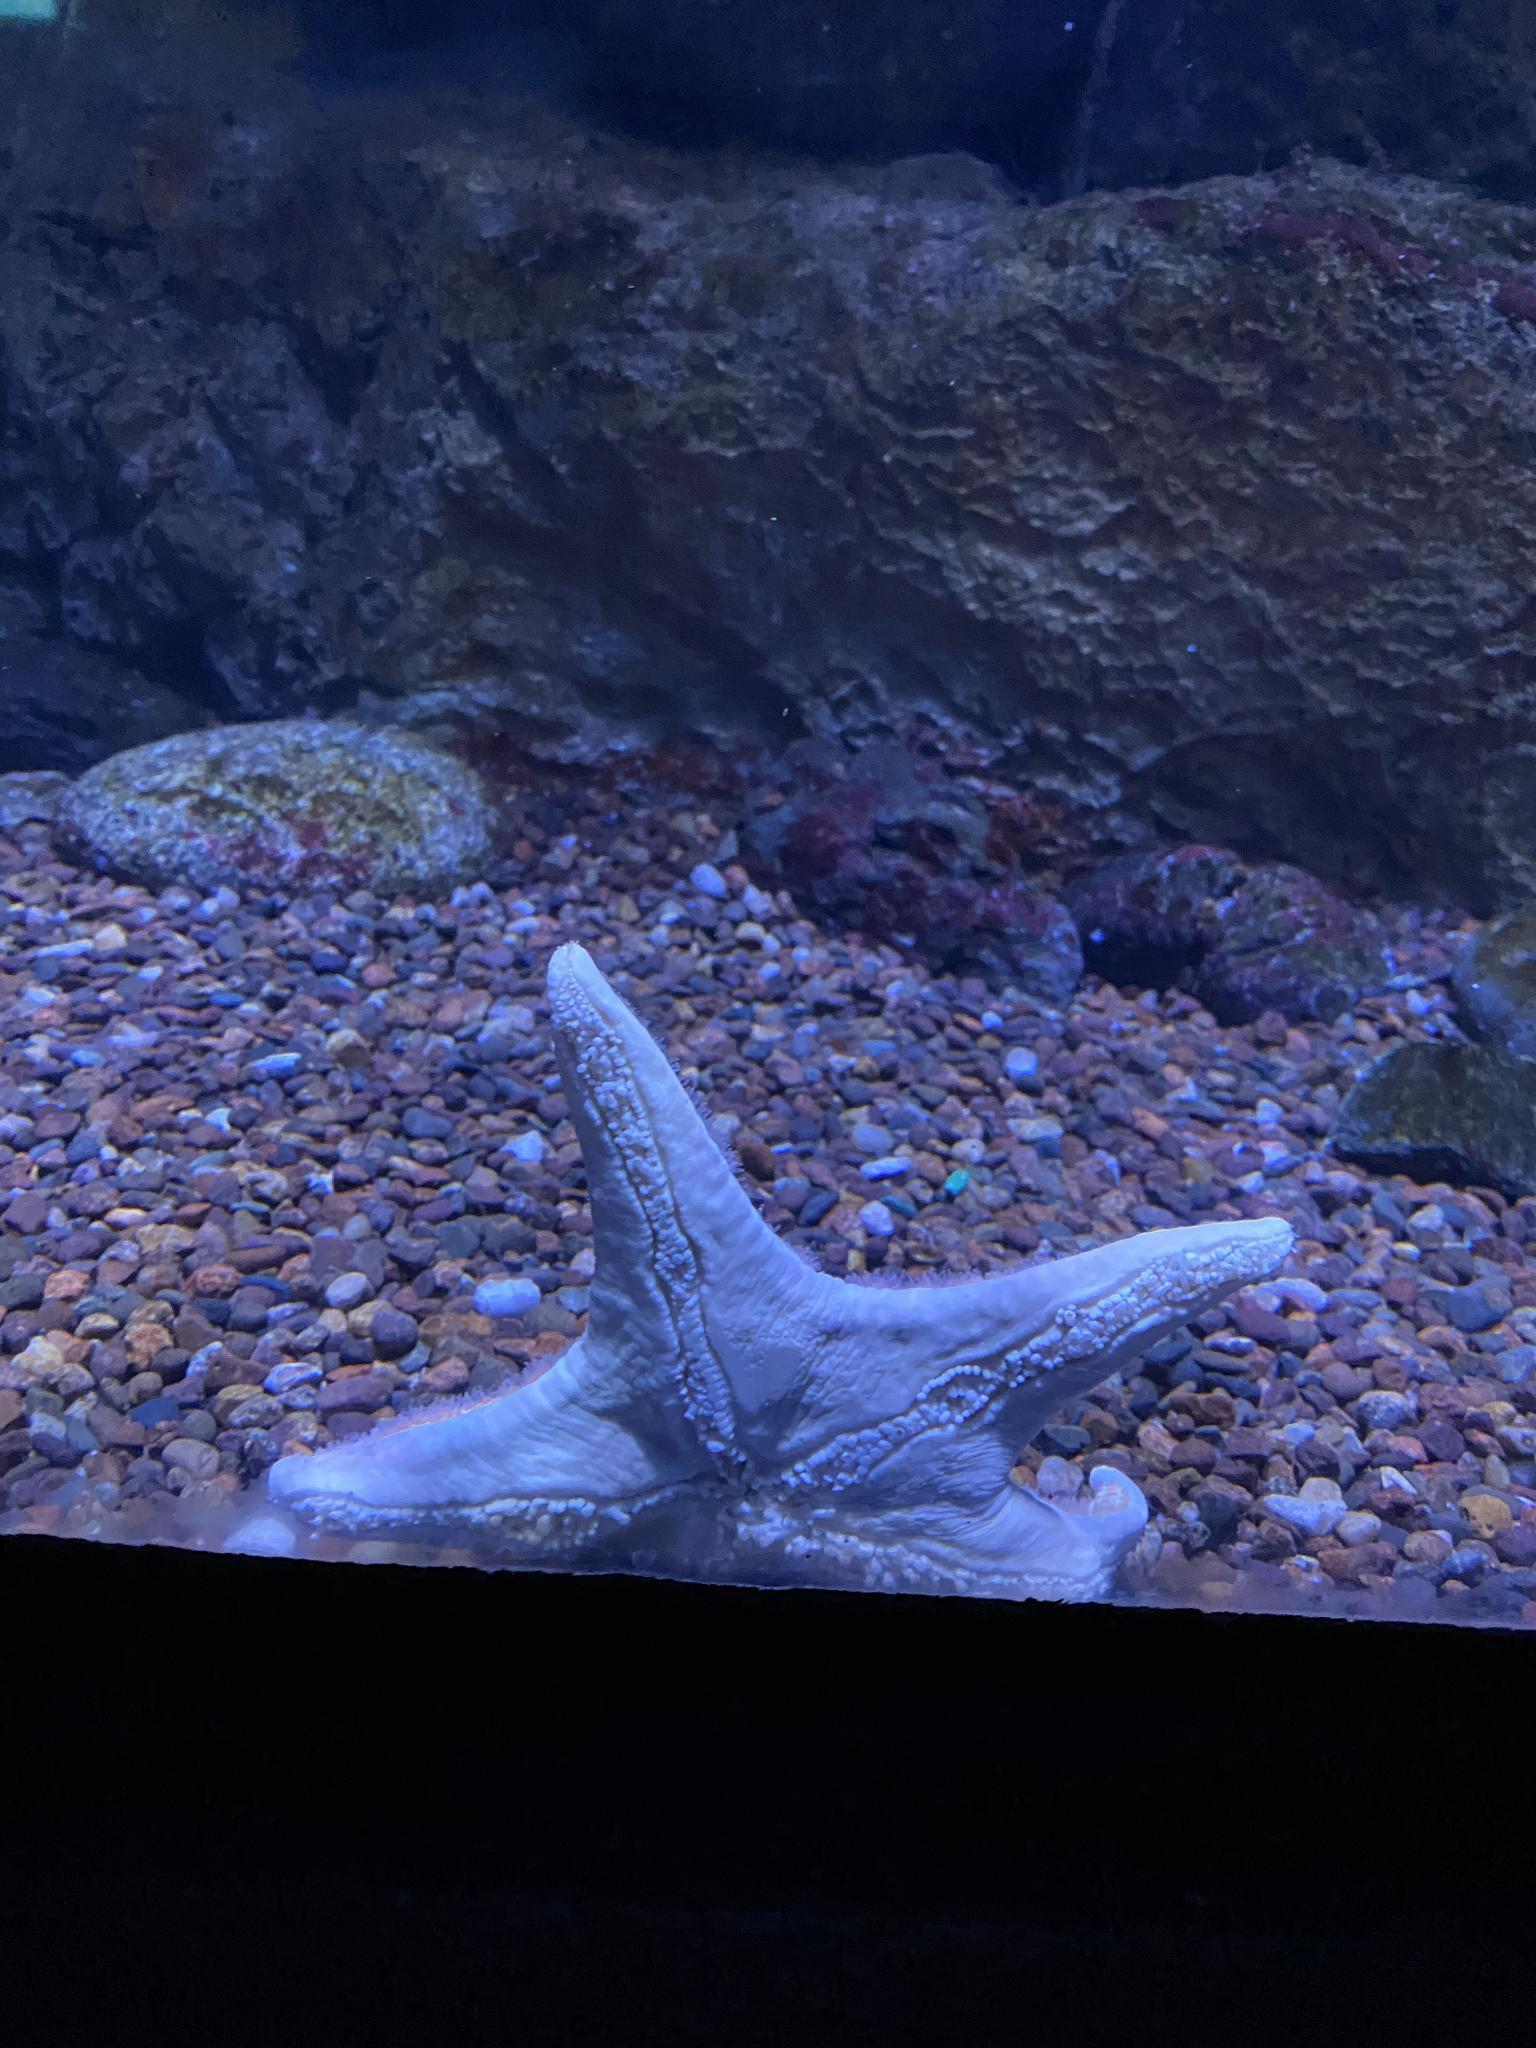starfish: (271, 934, 1296, 1621)
